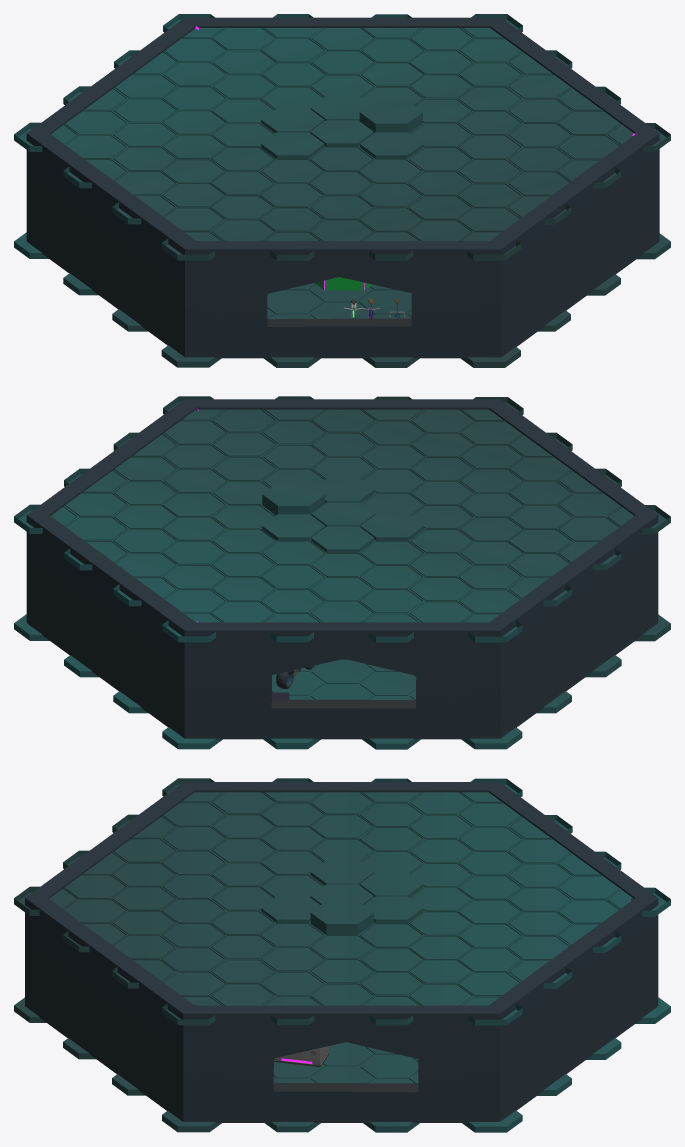
The model's file is Manoscyber.fbx.
3 views of the same model, one above another, from view 1: azimuth 30°, elevation 25°; view 2: azimuth 150°, elevation 25°; view 3: azimuth 270°, elevation 25° (orthographic).
Parts seen in each view (by area): view 1: Cylinder.002, Paredes, Cylinder.001, Cylinder.004, Cylinder.003; view 2: Cylinder.002, Paredes, Cylinder.001, Cylinder.004; view 3: Cylinder.002, Paredes, Cylinder.001, Cylinder.004, 6.002.
Part boxes in pixels (x1,y1,x2,y2): Cylinder.002: (14,14,670,260); Paredes: (26,17,659,358); Cylinder.001: (14,232,670,367); Cylinder.004: (261,96,423,158); Cylinder.003: (314,277,372,290); Cylinder.002: (14,396,670,642); Paredes: (26,399,658,739); Cylinder.001: (14,614,670,749); Cylinder.004: (262,478,423,659); Cylinder.002: (14,778,670,1025); Paredes: (25,782,658,1122); Cylinder.001: (14,997,670,1132); Cylinder.004: (261,860,423,935); 6.002: (274,1046,329,1066).
Size of the model in its own units: 1803 by 486 by 2075.
22 materials, 15 textured.
